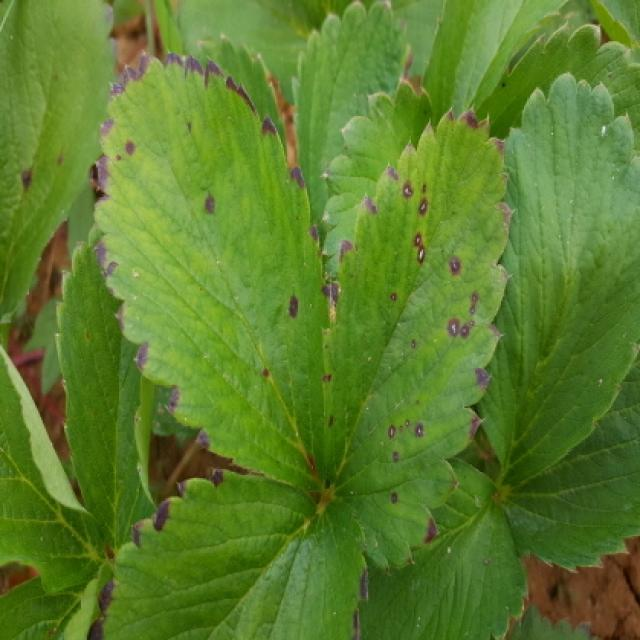Leaf Spot: (91, 50, 333, 491), (318, 104, 515, 576)
